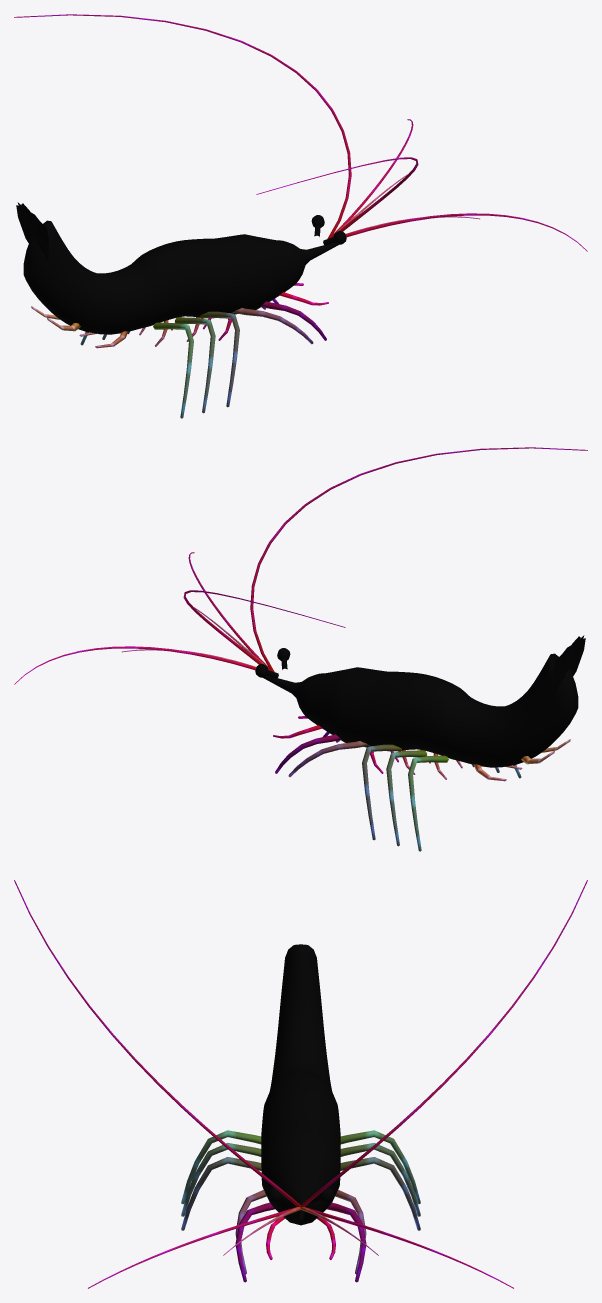
The model's file is sexy_shrimp.glb.
The picture shows the model from 3 angles, top to bottom: view 1: azimuth 30°, elevation 25°; view 2: azimuth 150°, elevation 25°; view 3: azimuth 270°, elevation 25°; orthographic projection. The views are drawn at different scales.
Visible parts, largest first — view 1: Body, Legs, Antennae; view 2: Body, Legs, Antennae; view 3: Body, Legs, Antennae.
Boxes of the visible parts, x1,y1,x2,y2 form: Body: (16,202,338,334); Legs: (31,283,328,418); Antennae: (14,14,587,251); Body: (263,635,585,767); Legs: (273,716,570,851); Antennae: (14,447,587,684); Body: (261,944,340,1225); Legs: (181,1130,420,1282); Antennae: (14,880,587,1288).
Size of the model in its own units: 1.53 by 0.8461 by 1.35.
Materials: 2 (1 with a texture image).
